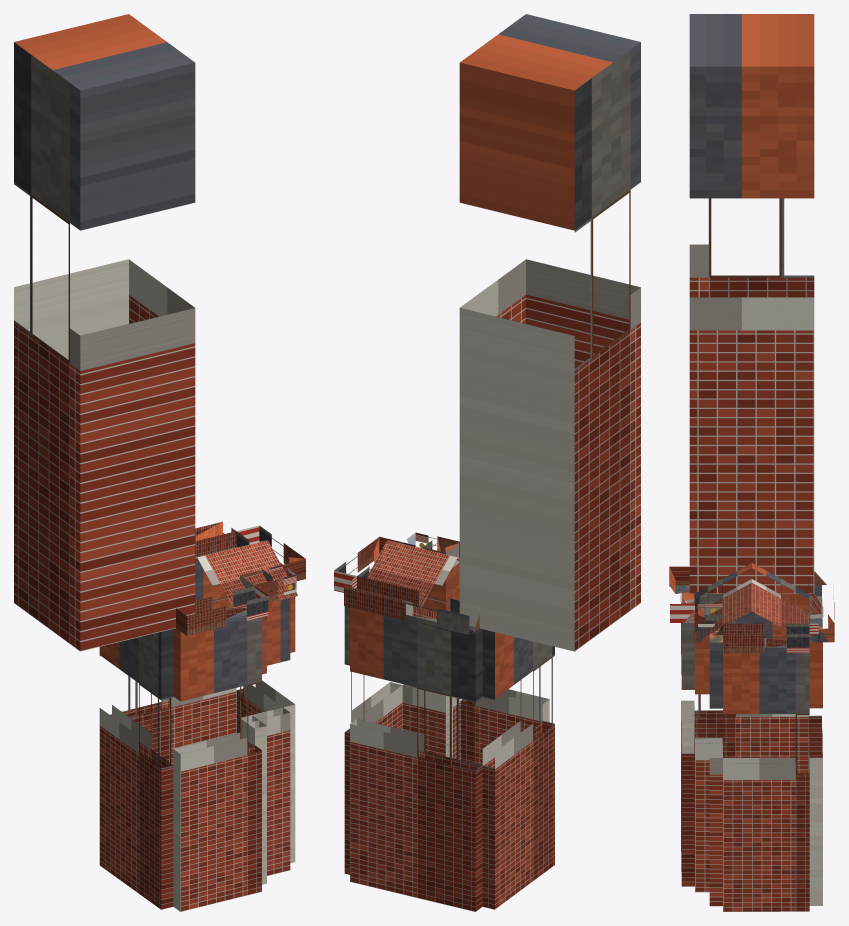
3 renders of one model, left to right at view 1: azimuth 30°, elevation 25°; view 2: azimuth 150°, elevation 25°; view 3: azimuth 270°, elevation 25°, orthographic. The views are drawn at different scales.
Visible parts, largest first — view 1: 1107169170__chimney_0_xb, 1107169170__wall_3_xb, 1107169170__wall_4_xb, 1107169170__wall_1_xb, 1107169170__wall_5_xb, 1107169170_roof_-1_xb, 1107169170__wall_0_xb, 1107169170__cornice_3, 1107169170__wall_2_xb, 1107169170__cornice_0, 1107169170__cornice_5; view 2: 1107169170__chimney_0_xb, 1107169170__wall_5_xb, 1107169170__wall_4_xb, 1107169170__wall_3_xb, 1107169170__cornice_5, 1107169170__wall_1_xb, 1107169170_roof_1_xb, 1107169170__wall_0_xb, 1107169170__wall_2_xb, 1107169170__cornice_0; view 3: 1107169170__chimney_0_xb, 1107169170__wall_0_xb, 1107169170__wall_4_xb, 1107169170__wall_5_xb, 1107169170__wall_3_xb, 1107169170__wall_2_xb, 1107169170__wall_1_xb, 1107169170__cornice_0, 1107169170_roof_1_xb, 1107169170_roof_-1_xb, 1107169170__cornice_3, 1107169170__cornice_5 (+2 smaller).
Part boxes in pixels (x1=…): 1107169170__chimney_0_xb: x1=14, y1=14, x2=195, y2=651; 1107169170__wall_3_xb: x1=173, y1=610, x2=261, y2=911; 1107169170__wall_4_xb: x1=99, y1=629, x2=173, y2=909; 1107169170__wall_1_xb: x1=241, y1=598, x2=290, y2=875; 1107169170__wall_5_xb: x1=110, y1=560, x2=236, y2=764; 1107169170_roof_-1_xb: x1=195, y1=540, x2=297, y2=607; 1107169170__wall_0_xb: x1=236, y1=583, x2=295, y2=863; 1107169170__cornice_3: x1=176, y1=586, x2=268, y2=635; 1107169170__wall_2_xb: x1=241, y1=616, x2=266, y2=884; 1107169170__cornice_0: x1=236, y1=525, x2=305, y2=580; 1107169170__cornice_5: x1=195, y1=521, x2=236, y2=557; 1107169170__chimney_0_xb: x1=459, y1=14, x2=640, y2=651; 1107169170__wall_5_xb: x1=350, y1=607, x2=482, y2=911; 1107169170__wall_4_xb: x1=482, y1=629, x2=554, y2=909; 1107169170__wall_3_xb: x1=460, y1=689, x2=549, y2=765; 1107169170__cornice_5: x1=344, y1=576, x2=479, y2=635; 1107169170__wall_1_xb: x1=402, y1=568, x2=452, y2=758; 1107169170_roof_1_xb: x1=367, y1=540, x2=459, y2=608; 1107169170__wall_0_xb: x1=344, y1=588, x2=402, y2=874; 1107169170__wall_2_xb: x1=433, y1=561, x2=460, y2=759; 1107169170__cornice_0: x1=334, y1=536, x2=402, y2=592; 1107169170__chimney_0_xb: x1=689, y1=14, x2=814, y2=593; 1107169170__wall_0_xb: x1=723, y1=645, x2=809, y2=911; 1107169170__wall_4_xb: x1=694, y1=594, x2=808, y2=773; 1107169170__wall_5_xb: x1=808, y1=585, x2=822, y2=905; 1107169170__wall_3_xb: x1=681, y1=591, x2=694, y2=886; 1107169170__wall_2_xb: x1=695, y1=634, x2=722, y2=892; 1107169170__wall_1_xb: x1=709, y1=633, x2=722, y2=906; 1107169170__cornice_0: x1=723, y1=623, x2=809, y2=653; 1107169170_roof_1_xb: x1=752, y1=563, x2=809, y2=633; 1107169170_roof_-1_xb: x1=694, y1=563, x2=751, y2=642; 1107169170__cornice_3: x1=669, y1=566, x2=694, y2=622; 1107169170__cornice_5: x1=808, y1=571, x2=834, y2=642.
Size of the model in its own units: 0.318 by 1.05 by 0.1985.
Materials: 1 (1 with a texture image).
